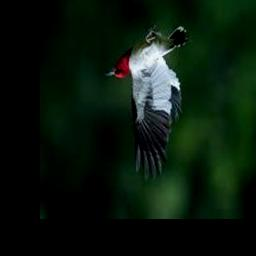Woodpecker: (106, 26, 191, 181)
